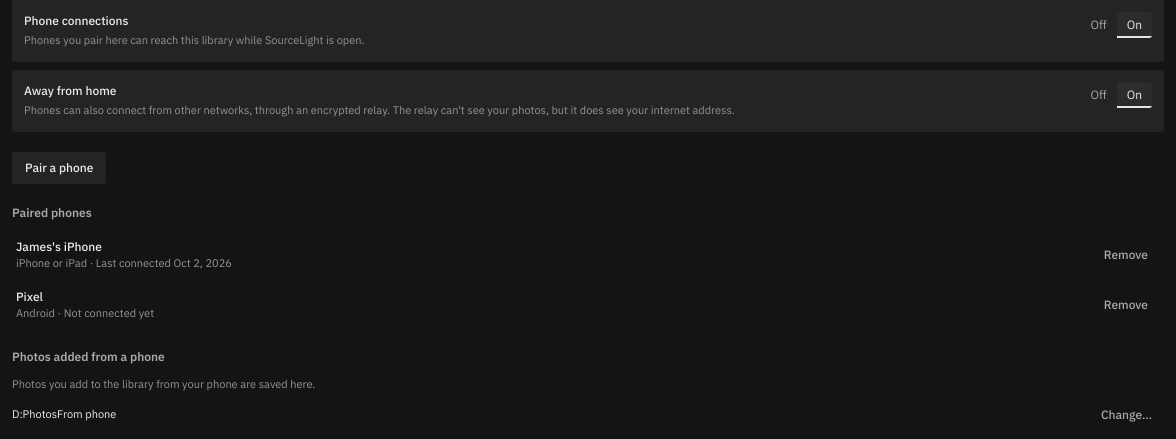
Scenario: PhoneSection › lists paired phones and removes one after asking
Expected: the text "iPhone or iPad · Last connected Oct 2, 2026" is shown, [16, 256, 232, 270]
Expected: the text "Android · Not connected yet" is shown, [16, 306, 154, 320]
Click the button "Remove" in the row of "James's iPhone" at (1126,255), box [1092, 240, 1160, 270]
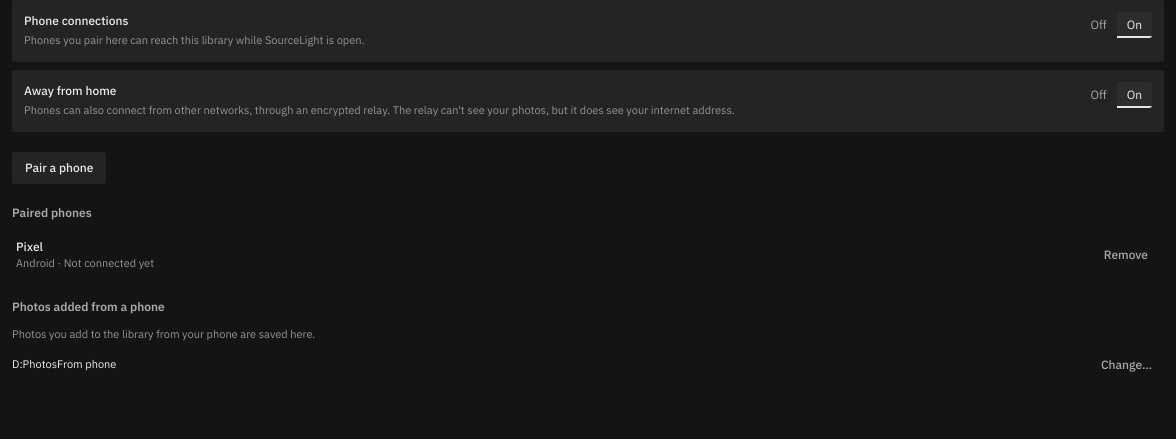
Expected: the text "Pixel" is shown, [16, 239, 43, 254]
Expected: the text "James's iPhone" is gone
